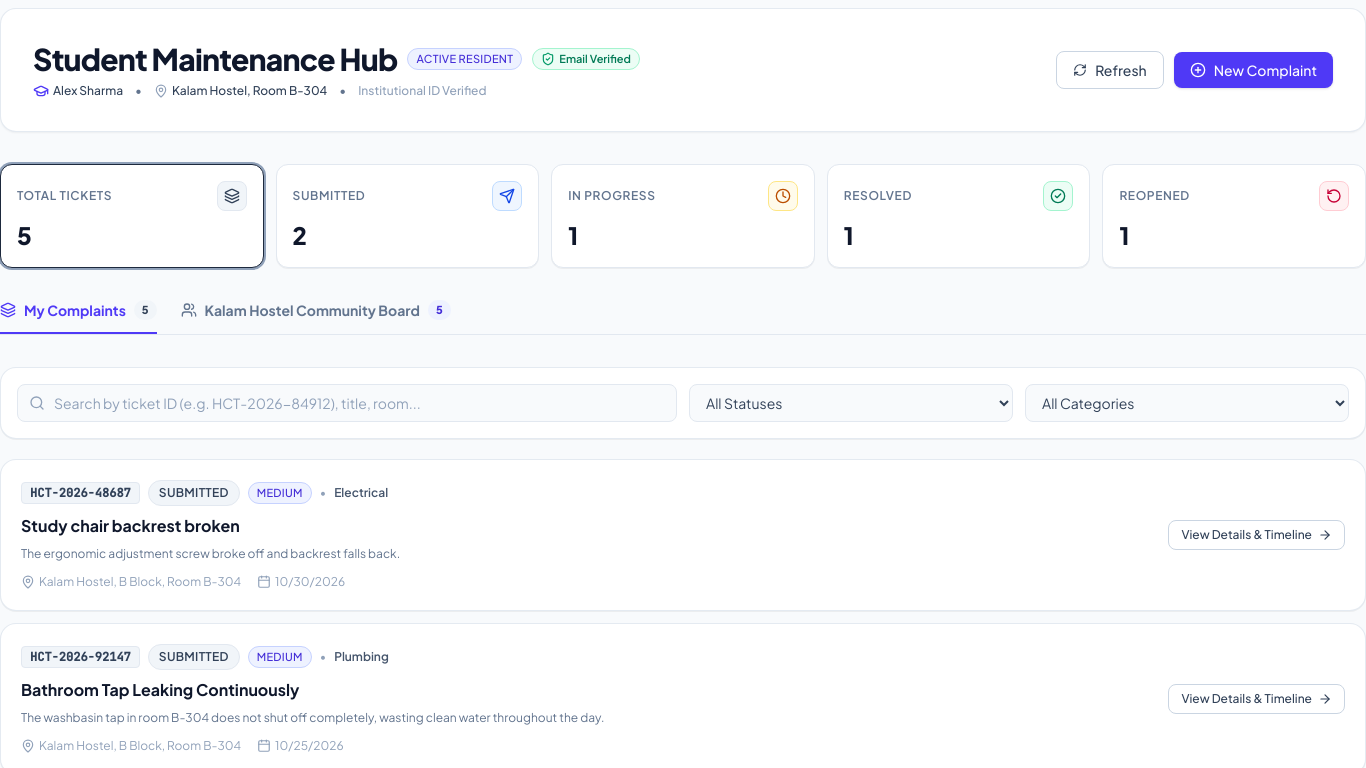
StudentDashboardPage (Phase 2) › opens ticket details modal and displays timeline audit milestones
The image size is (1366, 768).
Click the button "View Details & Timeline" in the row of "Study chair backrest broken".
click(1257, 535)  # box [1168,520,1345,550]
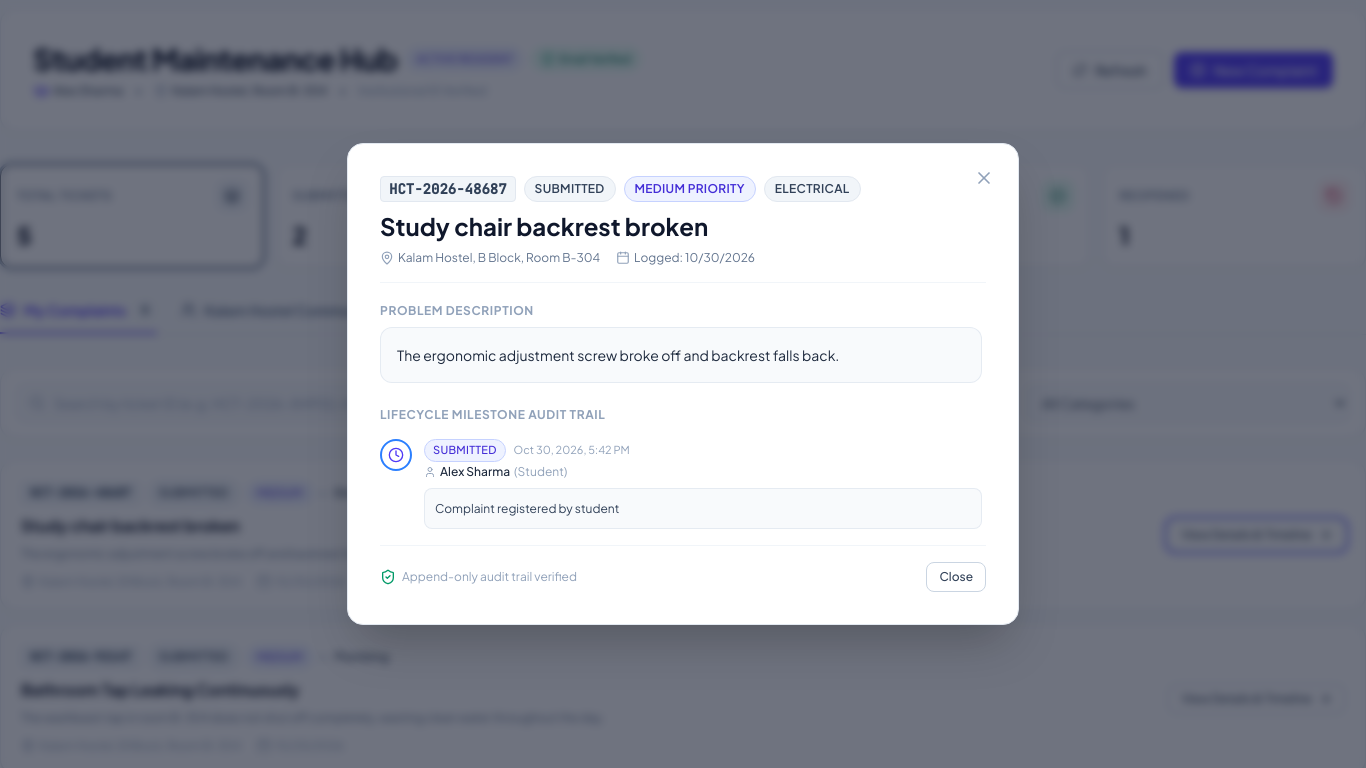
Now the heading "Lifecycle Milestone Audit Trail" is shown, box [380,407,605,422]
Now the text "Append-only audit trail verified" is shown, box [380,569,577,585]
